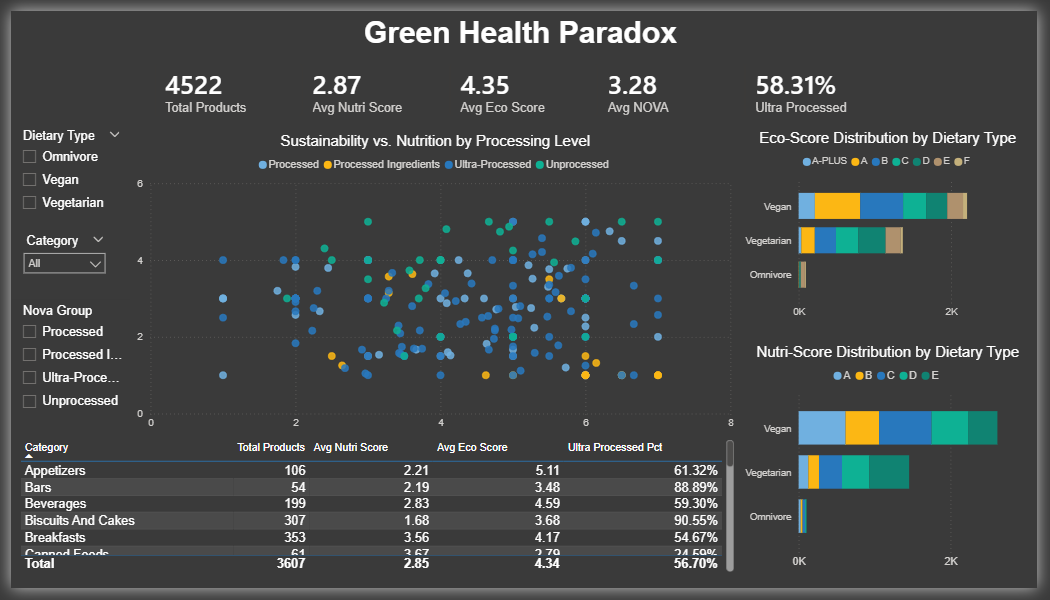

This screenshot's page, from the dashboard's own definition file:
{"tool":"powerbi","page":{"name":"The Paradox","canvas":[1280,720],"ordinal":0},"visuals":[{"type":"scatterChart","title":"Sustainability vs. Nutrition by Processing Level ","fields":{"X":["Avg(green_health_cleaned.eco_score_num)"],"Y":["Avg(green_health_cleaned.nutri_score_num)"],"Category":["green_health_cleaned.Category"],"Series":["green_health_cleaned.nova_label"]},"box":[152,146,754,384],"z":1000},{"type":"barChart","title":"Nutri-Score Distribution by Dietary Type","fields":{"Category":["green_health_cleaned.Dietary_Type"],"Series":["green_health_cleaned.nutriscore_grade"],"Y":["CountNonNull(green_health_cleaned.product_name)"]},"box":[905.9,414.8,374.1,289],"z":2000},{"type":"barChart","title":"Eco-Score Distribution by Dietary Type","fields":{"Category":["green_health_cleaned.Dietary_Type"],"Series":["green_health_cleaned.ecoscore_grade"],"Y":["CountNonNull(green_health_cleaned.product_name)"]},"box":[905.9,148.9,374.1,242.9],"z":3000},{"type":"tableEx","fields":{"Values":["green_health_cleaned.Category","green_health_cleaned.Total Products","green_health_cleaned.Avg Nutri Score","green_health_cleaned.Avg Eco Score","green_health_cleaned.Ultra Processed Pct"]},"box":[6,530,900,174],"z":4000},{"type":"slicer","fields":{"Values":["green_health_cleaned.Dietary_Type"]},"box":[2.1,141.5,146,130],"z":5000},{"type":"slicer","fields":{"Values":["green_health_cleaned.nova_label"]},"box":[2.9,360,145.7,158.6],"z":6000},{"type":"slicer","fields":{"Values":["green_health_cleaned.Category"]},"box":[5.7,271.4,121.4,70],"z":7000},{"type":"textbox","box":[431.7,0,416.7,63.3],"z":8000},{"type":"cardVisual","fields":{"Data":["green_health_cleaned.Total Products","green_health_cleaned.Avg Nutri Score","green_health_cleaned.Avg Eco Score","green_health_cleaned.Avg NOVA","green_health_cleaned.Ultra Processed Pct"]},"box":[158,64,966,68],"z":8500}]}

Visuals, with their boxes in screenshot pixels (x1, y1, x2, y2), scaled from the page's 1280x720 canvas onto the 1050x600 screenshot:
"Sustainability vs. Nutrition by Processing Level " scatterChart: 125, 122, 743, 442
"Nutri-Score Distribution by Dietary Type" barChart: 743, 346, 1049, 586
"Eco-Score Distribution by Dietary Type" barChart: 743, 124, 1049, 326
tableEx - green_health_cleaned.Category x green_health_cleaned.Total Products: 5, 442, 743, 587
slicer - green_health_cleaned.Dietary_Type: 2, 118, 121, 226
slicer - green_health_cleaned.nova_label: 2, 300, 122, 432
slicer - green_health_cleaned.Category: 5, 226, 104, 284
textbox: 354, 0, 696, 53
cardVisual - green_health_cleaned.Total Products x green_health_cleaned.Avg Nutri Score: 130, 53, 922, 110
